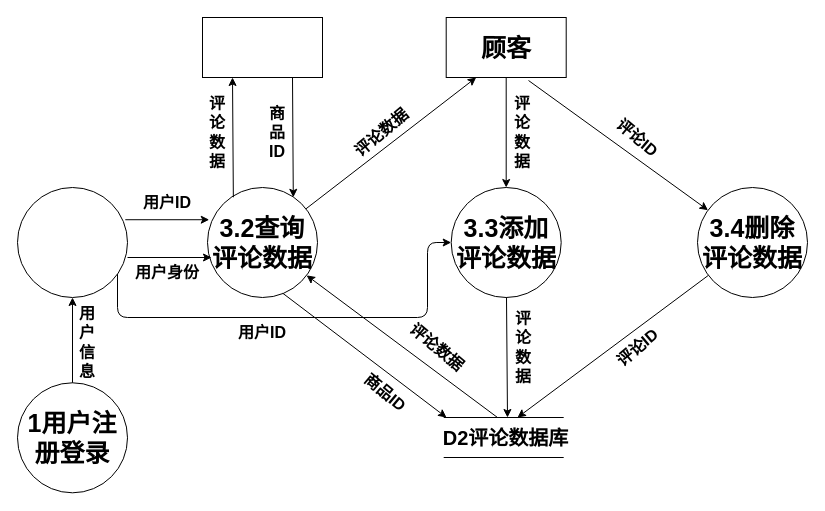
Image size: 825x511. Some labels were removed from this diagram. Each missing label, with the box of its shape:
3.1用户 鉴权: (16, 186, 128, 298)
管理人员: (202, 16, 322, 78)
